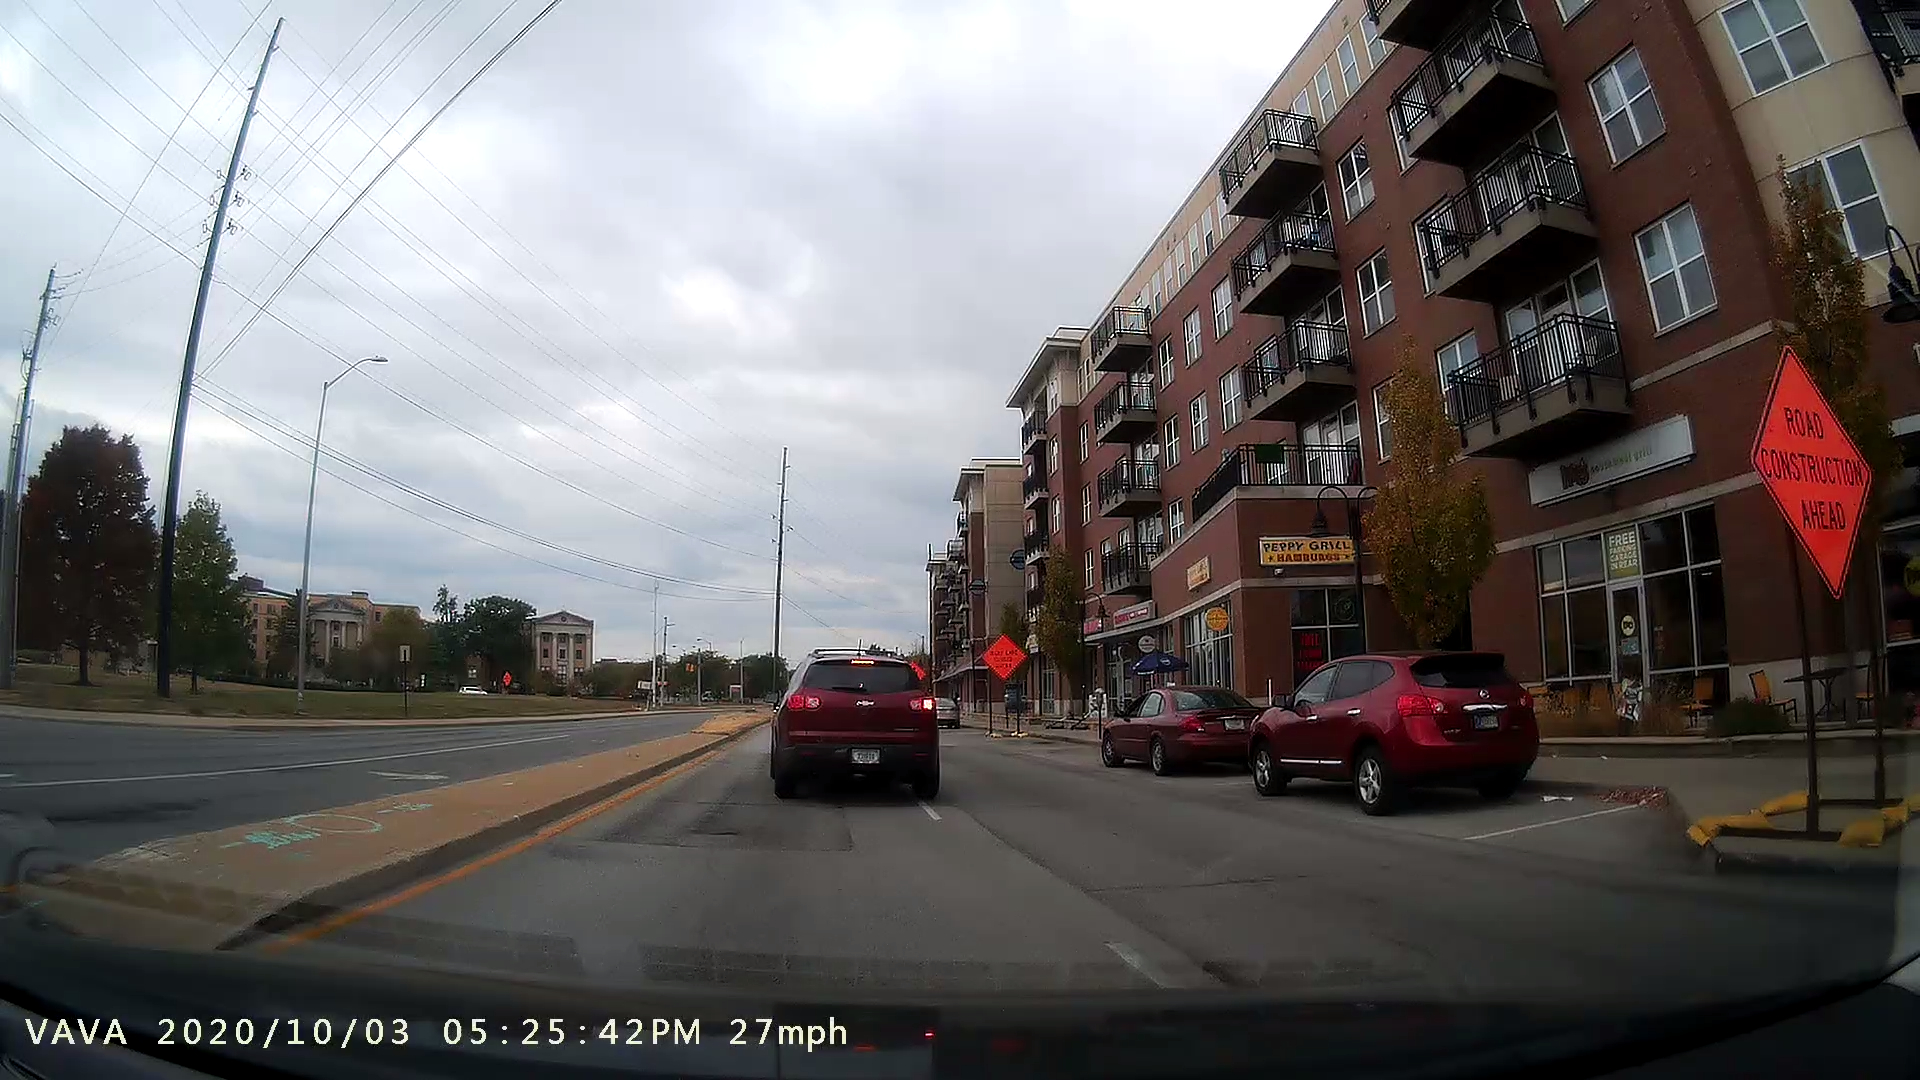ttcs_road_const_ahead: (1668, 328, 1920, 866)
